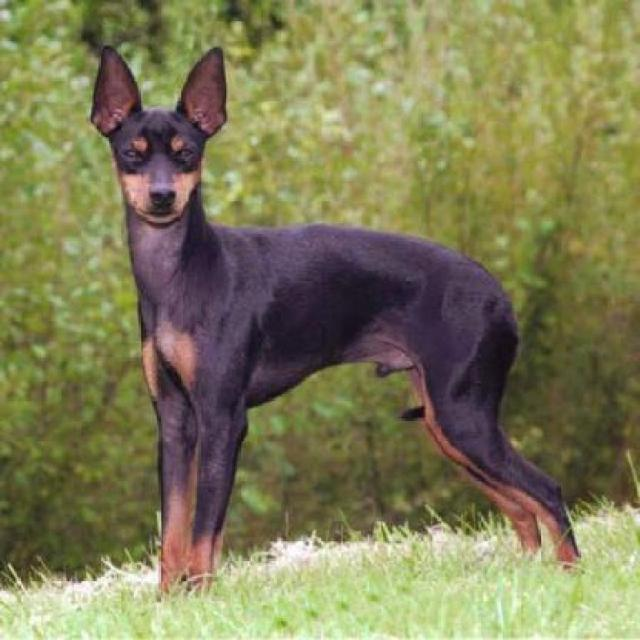animals: (32, 23, 638, 640)
